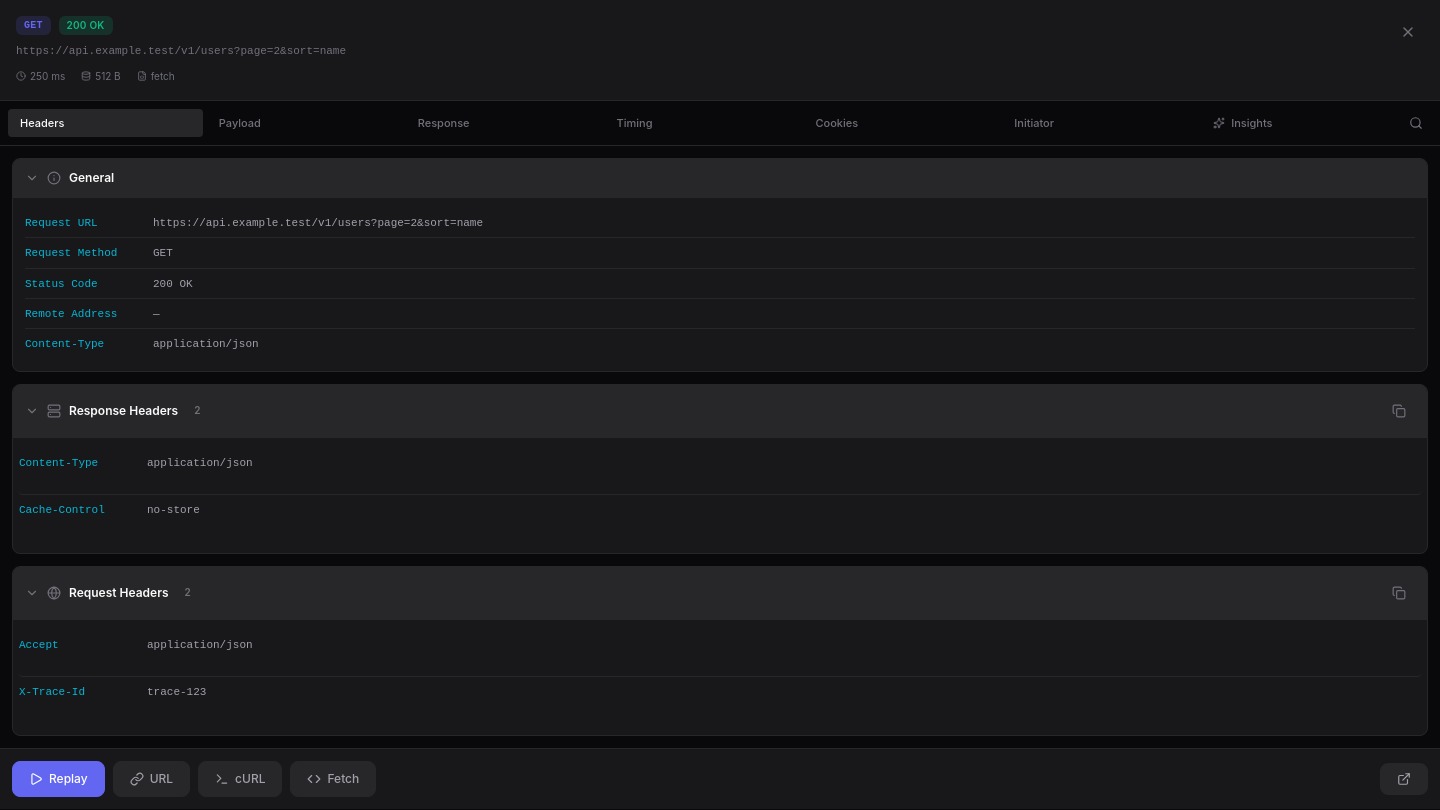
it: NetworkRequestDetails (HTTP) › fetches the response body from the background otherwise
The image size is (1440, 810).
Click the button "Response".
click(503, 123)  # box [406,109,601,137]
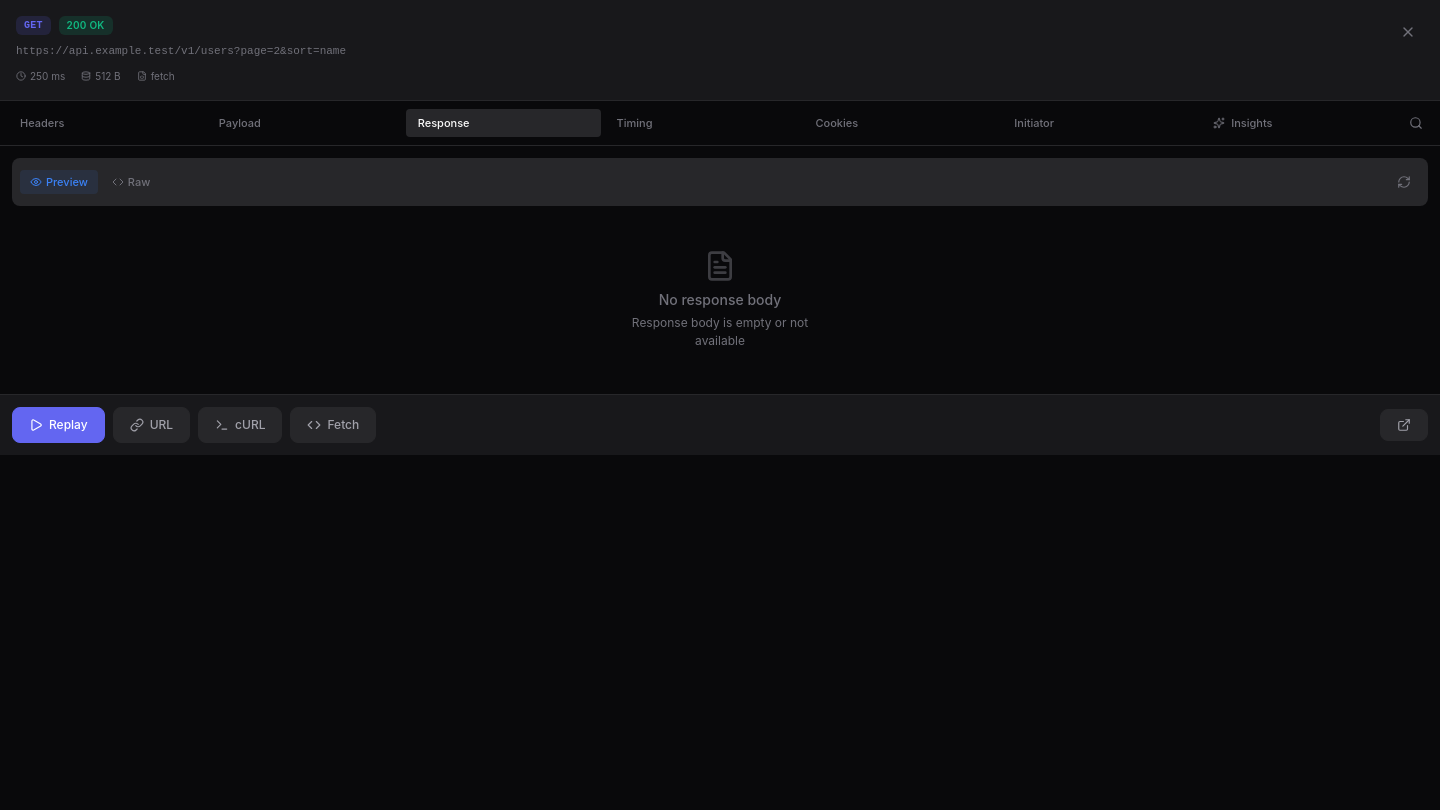
Expected: the text "No response body" is shown, [659,290,781,310]
